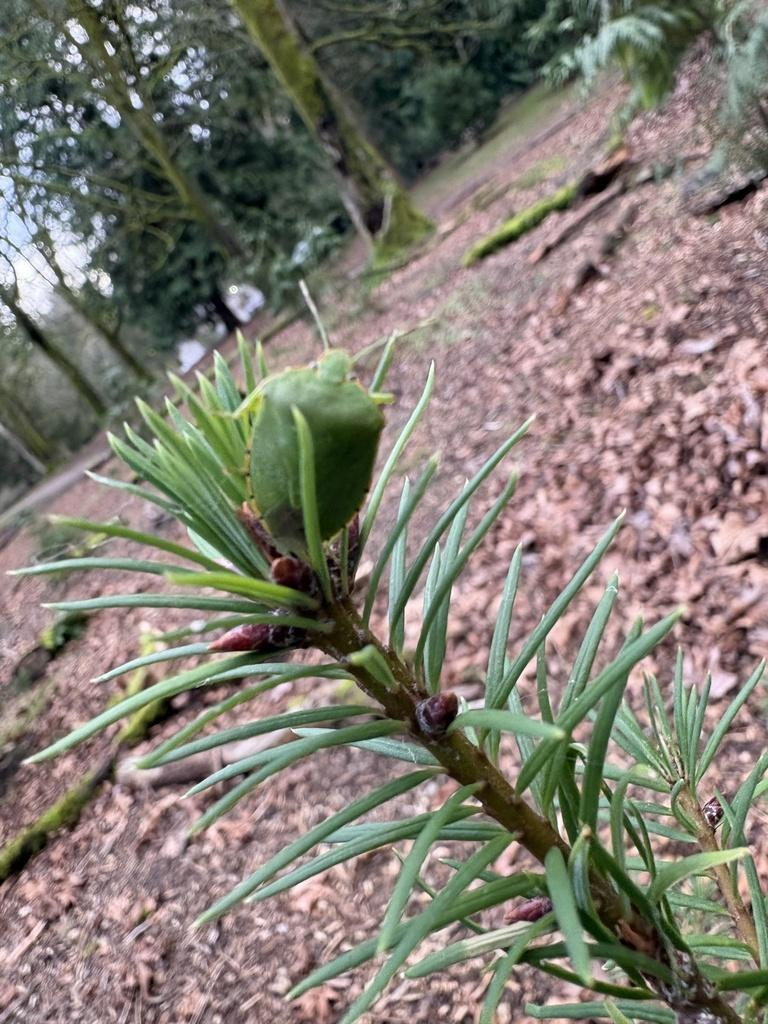stink_bugs: (190, 305, 477, 583)
